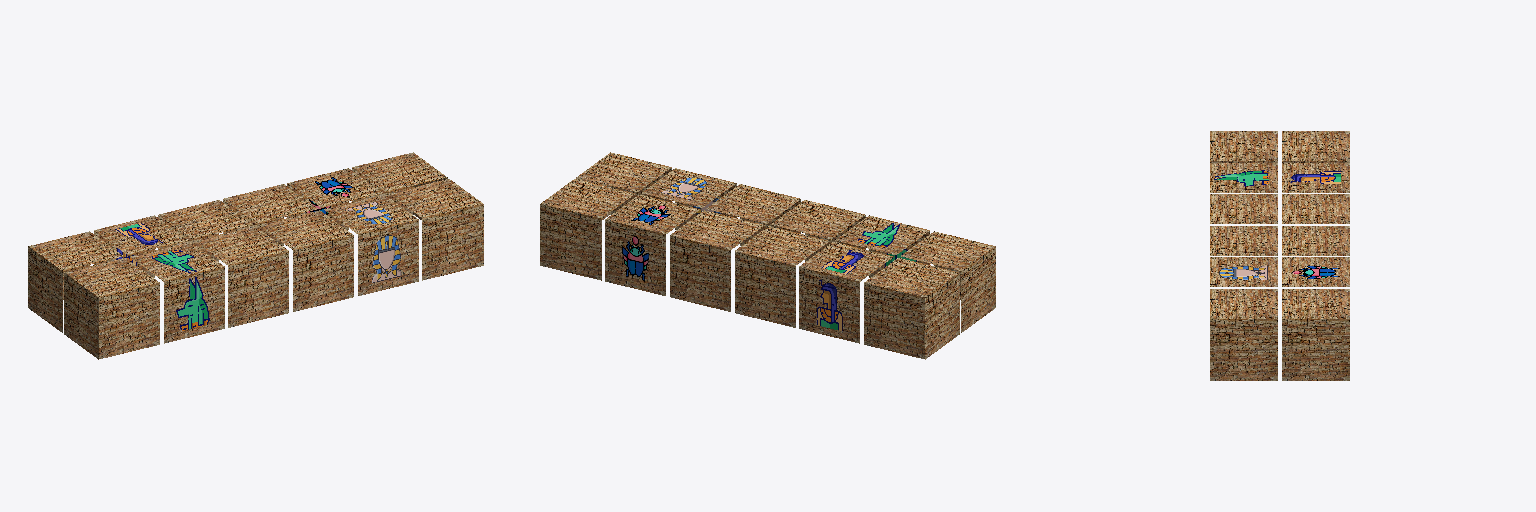
3 views of the same model, side by side, from view 1: azimuth 30°, elevation 25°; view 2: azimuth 150°, elevation 25°; view 3: azimuth 270°, elevation 25° (orthographic).
Visible parts, largest first — view 1: laberintoCompletoEgipto_Box670; view 2: laberintoCompletoEgipto_Box670; view 3: laberintoCompletoEgipto_Box670.
Boxes of the visible parts, box(x1,y1,x2,y2) form: laberintoCompletoEgipto_Box670: box(28, 152, 483, 359); laberintoCompletoEgipto_Box670: box(540, 152, 995, 359); laberintoCompletoEgipto_Box670: box(1210, 131, 1349, 380).
Size of the model in its own units: 13.09 by 2.02 by 4.13.
5 materials, 5 textured.